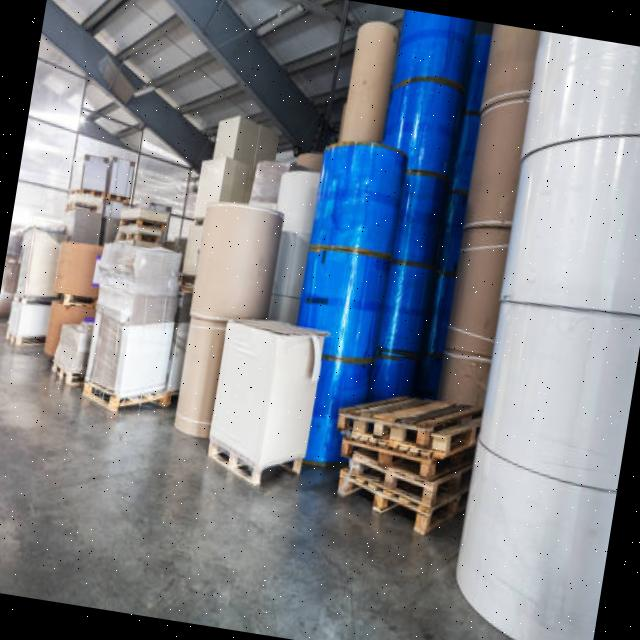Wooden-Pallets: (335, 385, 485, 466), (325, 469, 444, 544), (334, 429, 450, 493), (336, 447, 440, 518), (198, 428, 300, 496), (73, 379, 165, 423)
